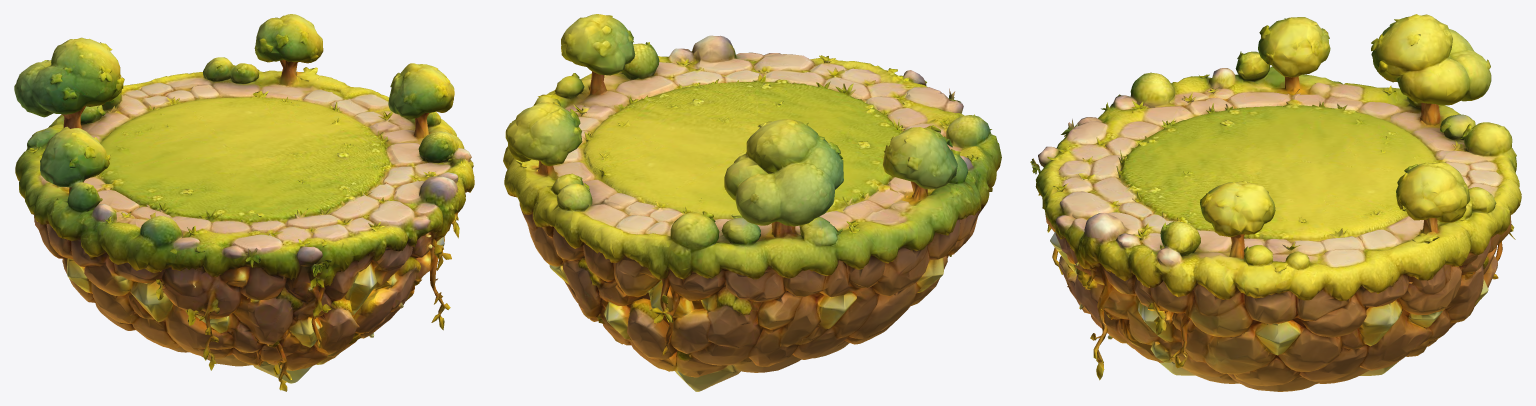
The model's file is star_center.glb.
3 renders of one model, left to right at view 1: azimuth 30°, elevation 25°; view 2: azimuth 150°, elevation 25°; view 3: azimuth 270°, elevation 25°, orthographic. The views are drawn at different scales.
Bounding box in the file's own units: 1 × 0.6892 × 0.995.
Materials: 1 (1 with a texture image).
